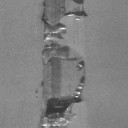slag inclusion: (40, 0, 88, 128), (34, 89, 38, 94), (74, 18, 80, 21)
